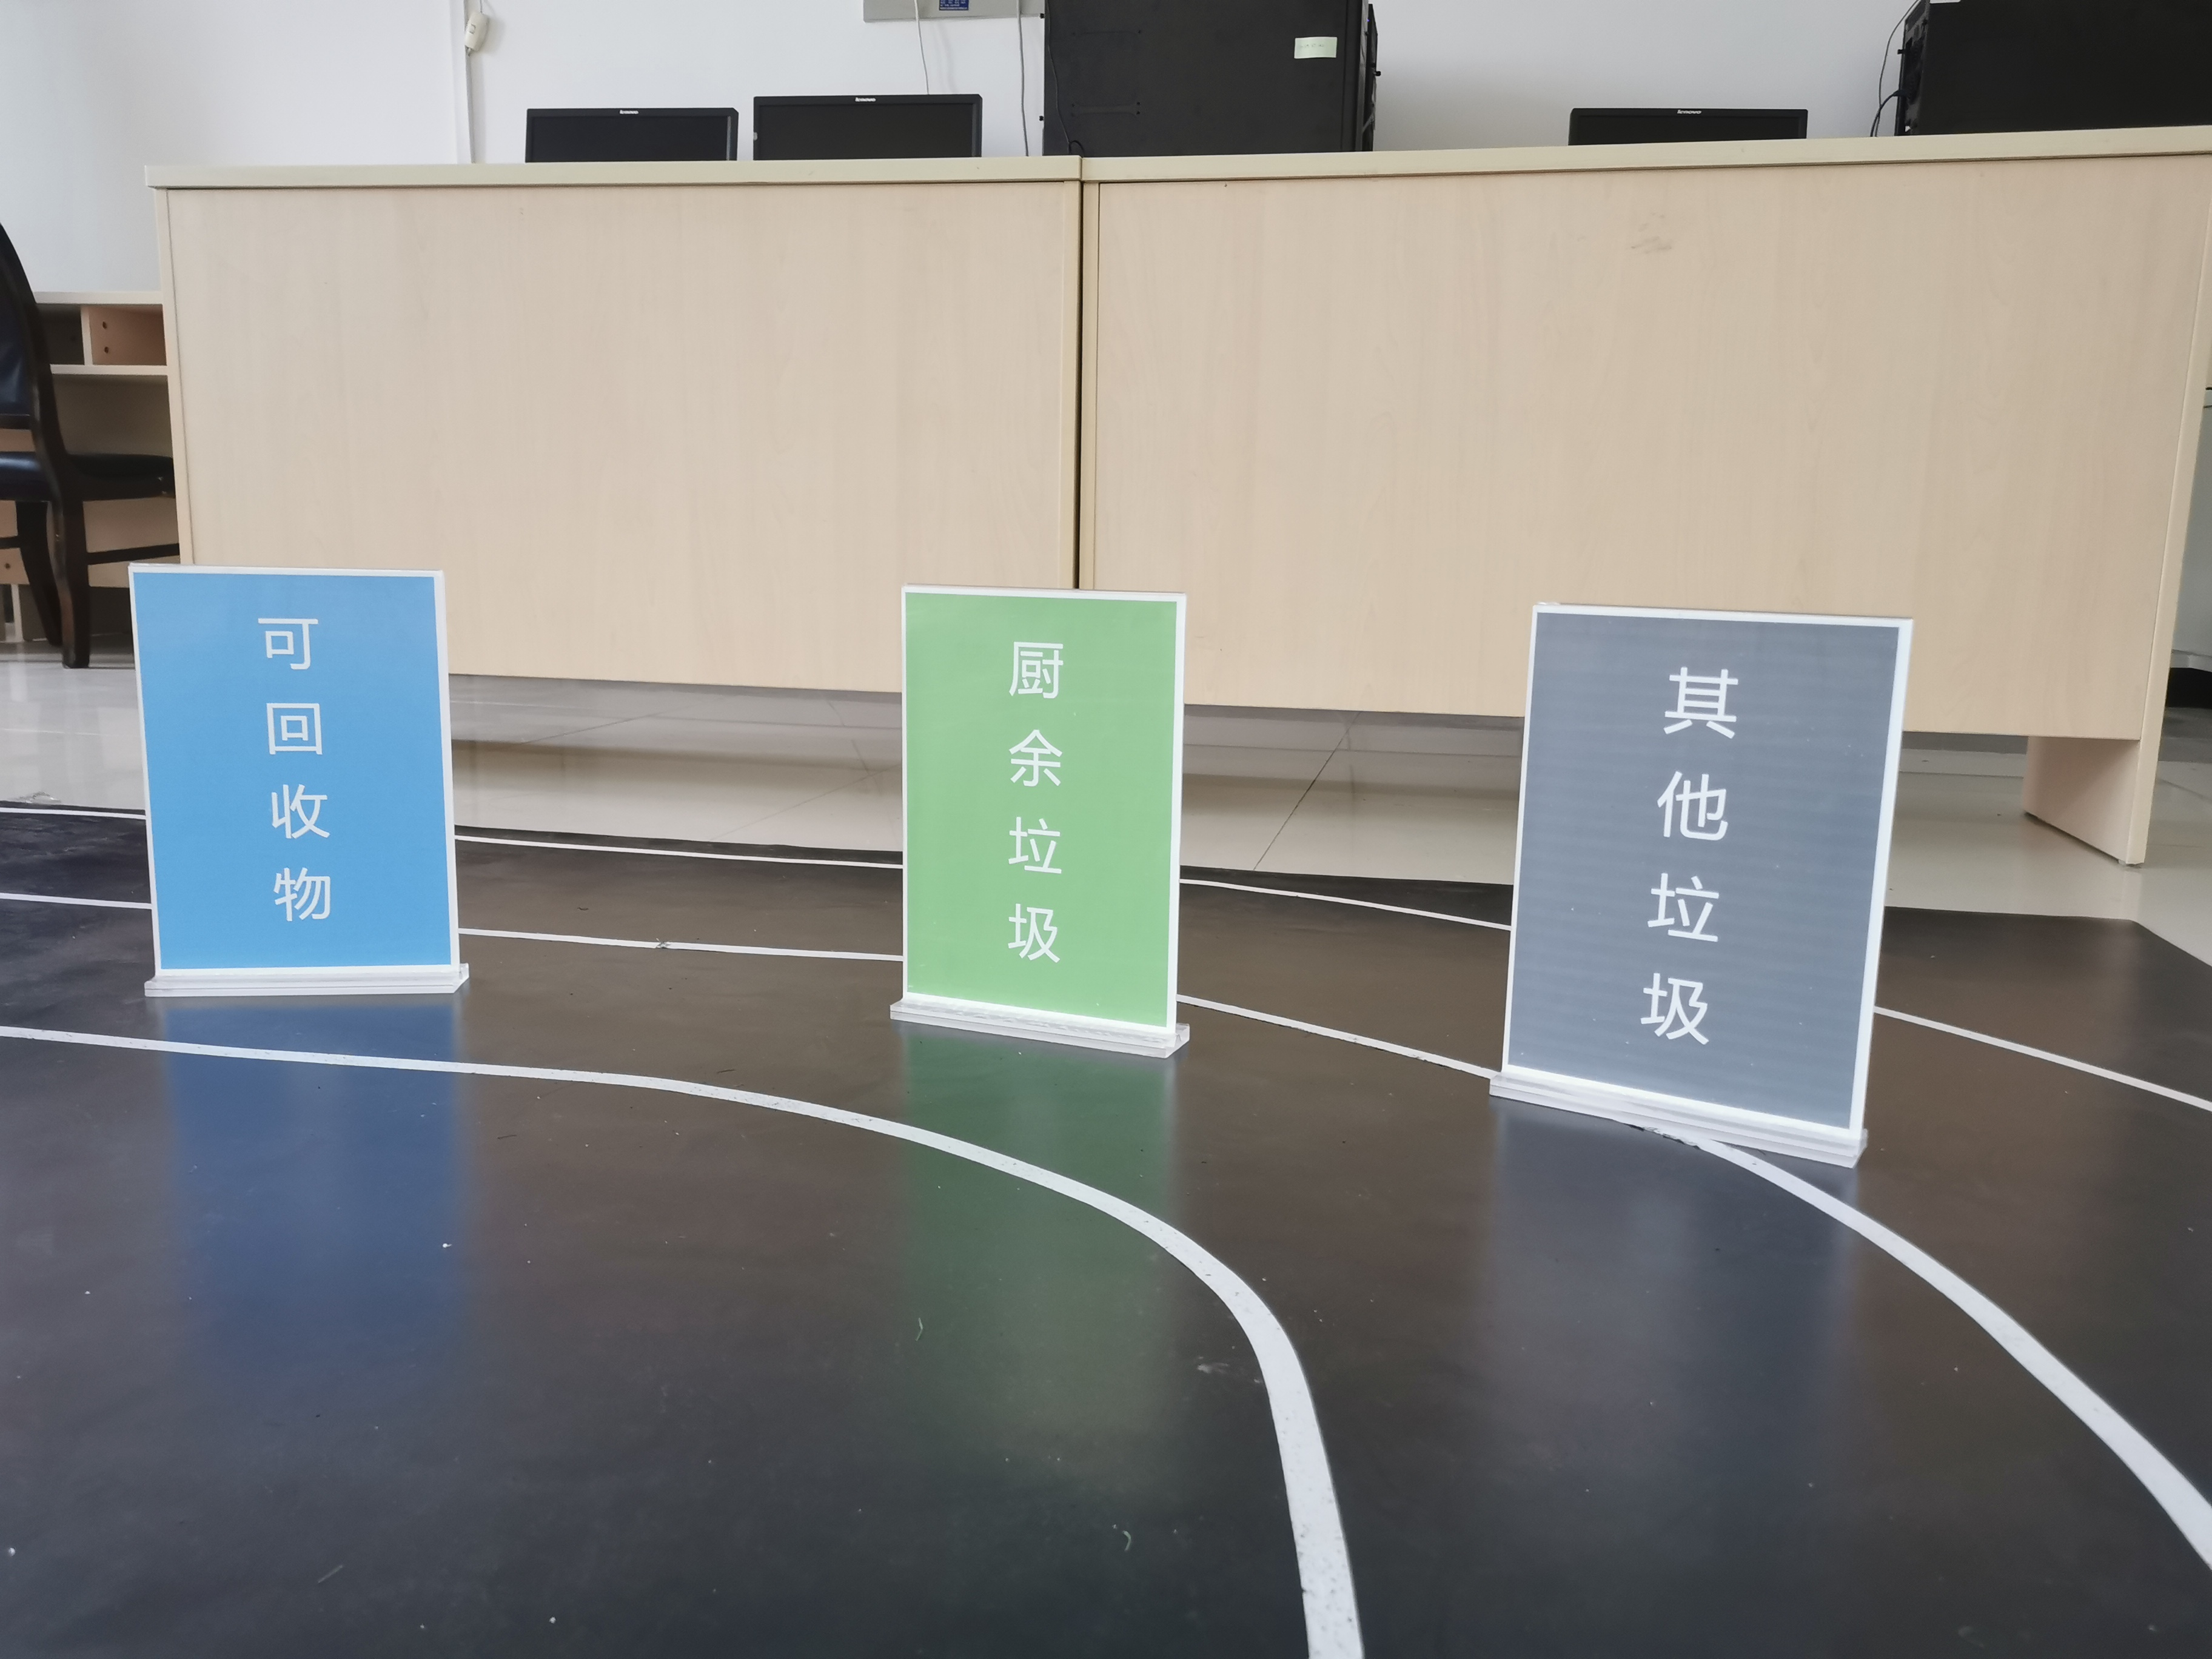black: (1547, 638, 1853, 1068)
blue: (162, 582, 444, 964)
green: (913, 610, 1163, 990)
